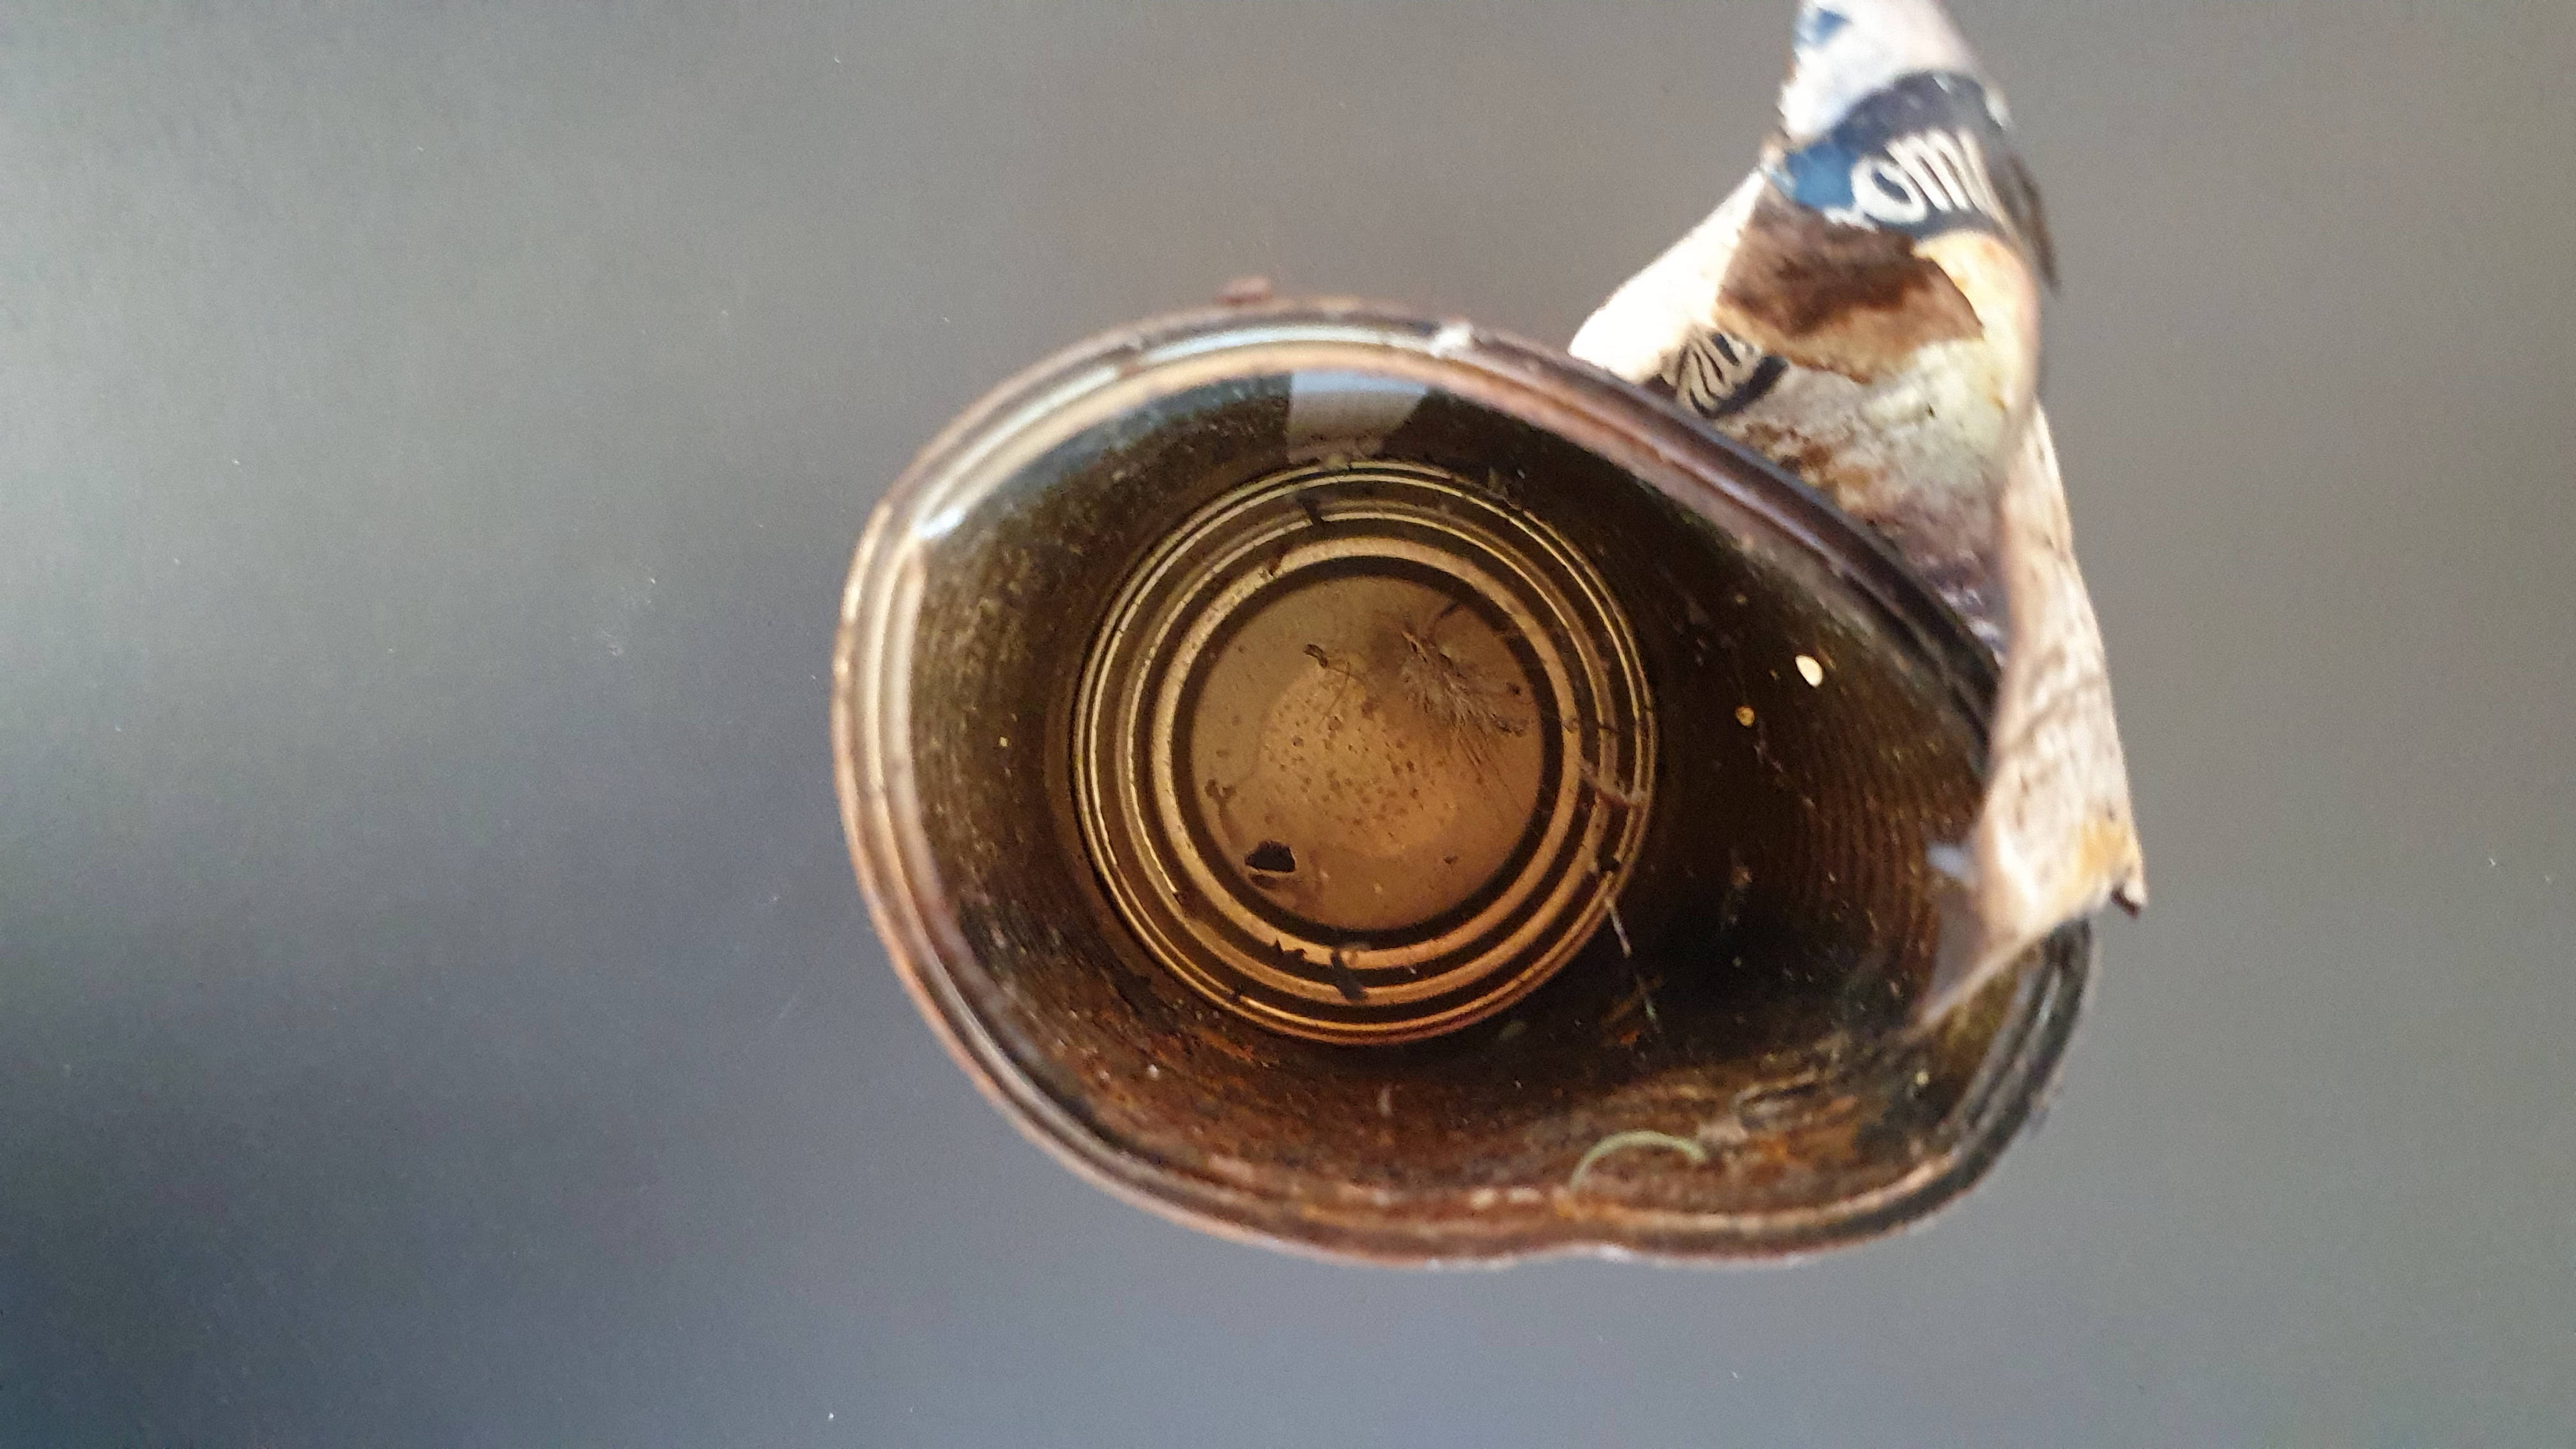metal: (807, 12, 2185, 1290)
